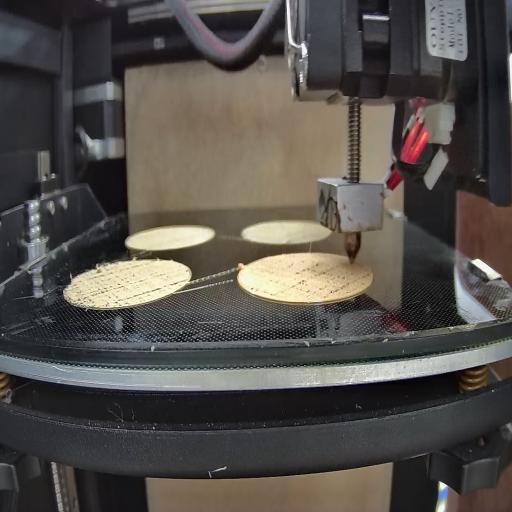under_extrusion: (64, 265, 166, 307), (282, 254, 370, 299), (248, 274, 268, 302), (169, 272, 190, 290)
